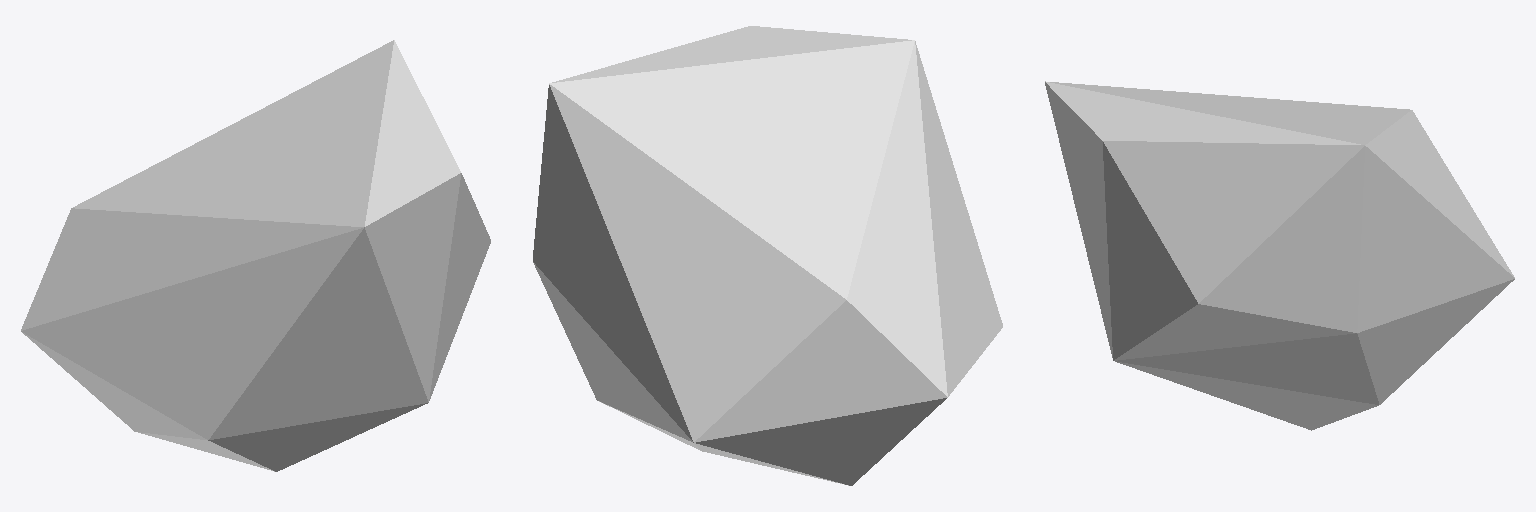
robot.urdf — talos_rleg_rom:
<?xml version="1.0" ?>
<robot name="talos_rleg_rom" xmlns:controller="http://playerstage.sourceforge.net/gazebo/xmlschema/#controller" xmlns:interface="http://playerstage.sourceforge.net/gazebo/xmlschema/#interface" xmlns:sensor="http://playerstage.sourceforge.net/gazebo/xmlschema/#sensor" xmlns:xacro="http://ros.org/wiki/xacro">

  <link name="torso_2_link">
    <inertial>
      <origin rpy="0.00000 0.00000 0.00000" xyz="-0.04551 -0.00053 0.16386"/>
      <mass value="17.55011"/>
      <inertia ixx="0.37376900000" ixy="0.00063900000" ixz="0.01219600000" iyy="0.24790200000" iyz="0.00000700000" izz="0.28140400000"/>
    </inertial>
  </link>
  <!--************************-->
  <!--        TORSO_1  (PAN)  -->
  <!--************************-->
  <link name="torso_1_link">
    <inertial>
      <origin rpy="0.00000 0.00000 0.00000" xyz="0.00013 -0.00001 -0.01306"/>
      <mass value="3.02433"/>
      <inertia ixx="0.00759400000" ixy="0.00000100000" ixz="-0.00004800000" iyy="0.00429200000" iyz="-0.00000100000" izz="0.00749700000"/>
    </inertial>
  </link>
  <joint name="torso_1_joint" type="revolute">
    <parent link="base_link"/>
    <child link="torso_1_link"/>
    <origin rpy="0.0 0.0 0.0" xyz="0.0 0.0 0.0722"/>
    <axis xyz="0 0 1"/>
    <limit effort="78.0" lower="-1.308996939" upper="1.308996939" velocity="5.4"/>
  </joint>
  <!--************************-->
  <!--        BASE_LINK       -->
  <!--************************-->
  <link name="base_link">
    <inertial>
      <origin rpy="0.00000 0.00000 0.00000" xyz="-0.08222 0.00838 -0.07261"/>
      <mass value="13.53810"/>
      <inertia ixx="0.06989000000" ixy="-0.00011700000" ixz="0.00023000000" iyy="0.03998200000" iyz="-0.00132500000" izz="0.08234500000"/>
    </inertial>
    <visual>
      <origin rpy="0 0 0" xyz="0 0 0"/>
      <geometry>
        <mesh filename="package://talos-rbprm/meshes/talos_rleg_rom.stl" scale="1 1 1"/>
      </geometry>
      <material name="LightGrey"/>
    </visual>
    <collision>
      <origin rpy="0 0 0" xyz="0 0 0"/>
      <geometry>
        <mesh filename="package://talos-rbprm/meshes/talos_rleg_rom.stl" scale="1 1 1"/>
      </geometry>
    </collision>
  </link>
  <joint name="torso_2_joint" type="revolute">
    <parent link="torso_1_link"/>
    <child link="torso_2_link"/>
    <origin rpy="0.0 0.0 0.0" xyz="0.0 0.0 0.0"/>
    <axis xyz="0 1 0"/>
    <limit effort="78.0" lower="-0.261799387799" upper="0.785398163397" velocity="5.4"/>
    <dynamics damping="1.0" friction="1.0"/>
    <!-- <safety_controller k_position="20"
                          k_velocity="20"
                          soft_lower_limit="${-75.00000 * deg_to_rad + eps_radians}"
                          soft_upper_limit="${75.00000 * deg_to_rad - eps_radians}" /> -->
  </joint>
  <link name="head_1_link">
    <inertial>
      <origin rpy="0.00000 0.00000 0.00000" xyz="0.00120 0.00145 0.02165"/>
      <mass value="0.65988"/>
      <inertia ixx="0.00122100000" ixy="-0.00000400000" ixz="0.00007000000" iyy="0.00092400000" iyz="-0.00004100000" izz="0.00103300000"/>
    </inertial>
  </link>
  <joint name="head_1_joint" type="revolute">
    <parent link="torso_2_link"/>
    <child link="head_1_link"/>
    <origin rpy="0.0 0.0 0.0" xyz="0.00000 0.00000 0.31600"/>
    <axis xyz="0 1 0"/>
    <limit effort="8.0" lower="-0.261799387799" upper="0.785398163397" velocity="1.0"/>
  </joint>
  <link name="head_2_link">
    <inertial>
      <origin rpy="0.00000 0.00000 0.00000" xyz="-0.01036 -0.00037 0.13778"/>
      <mass value="1.40353"/>
      <inertia ixx="0.00722500000" ixy="-0.00002500000" ixz="0.00032900000" iyy="0.00687300000" iyz="0.00004400000" izz="0.00437300000"/>
    </inertial>   
  </link>
  <joint name="head_2_joint" type="revolute">
    <parent link="head_1_link"/>
    <child link="head_2_link"/>
    <origin rpy="0.0 0.0 0.0" xyz="0.00000 0.00000 0.00000"/>
    <axis xyz="0 0 1"/>
    <limit effort="4.0" lower="-1.308996939" upper="1.308996939" velocity="1.0"/>
  </joint>
  <!-- define global properties -->
  <!-- <xacro:property name="M_PI" value="3.1415926535897931" /> -->
  <!-- Materials for visualization -->
  <material name="Blue">
    <color rgba="0.0 0.0 0.8 1.0"/>
  </material>
  <material name="Green">
    <color rgba="0.0 0.8 0.0 1.0"/>
  </material>
  <material name="Grey">
    <color rgba="0.7 0.7 0.7 1.0"/>
  </material>
  <material name="LightGrey">
    <color rgba="0.9 0.9 0.9 1.0"/>
  </material>
  <material name="DarkGrey">
    <color rgba="0.2 0.2 0.2 1.0"/>
  </material>
  <material name="Red">
    <color rgba="0.8 0.0 0.0 1.0"/>
  </material>
  <material name="White">
    <color rgba="1.0 1.0 1.0 1.0"/>
  </material>
  <material name="Orange">
    <color rgba="1.0 0.5 0.0 1.0"/>
  </material>
</robot>

--- What the picture shows (computed from the rendered views, not written in the file) ---
3 views of the same robot in one strip: view 1: azimuth 30°, elevation 25°; view 2: azimuth 150°, elevation 25°; view 3: azimuth 270°, elevation 25° (orthographic).
Model talos_rleg_rom with 5 links and 4 joints (4 revolute), rooted at base_link, posed every joint at zero.
Visible links, largest first — view 1: base_link; view 2: base_link; view 3: base_link.
Boxes of the visible links, x1,y1,x2,y2 form: base_link: (21,40,490,471); base_link: (533,26,1002,485); base_link: (1045,81,1514,430).
Bounding box of the posed robot: 1.53 × 1.54 × 1.24 m (x, y, z).
1 mesh visuals loaded from 1 distinct referenced files (1 binary STL).